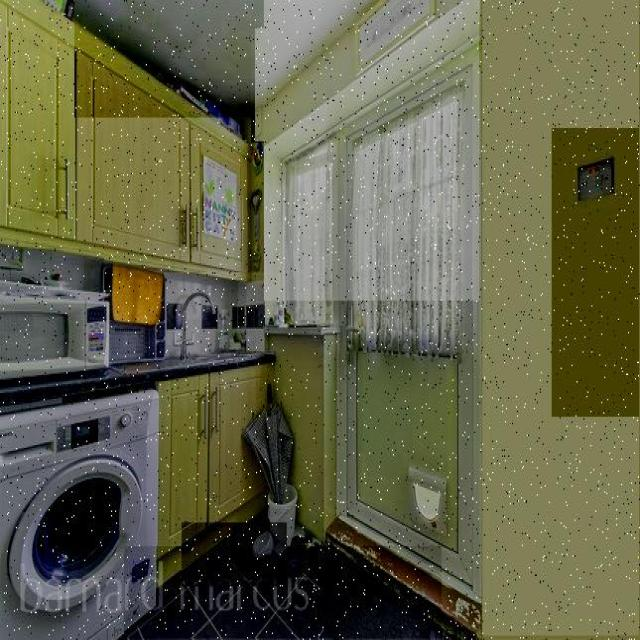Wall: (483, 0, 640, 636), (265, 0, 479, 301), (75, 1, 375, 118), (125, 547, 442, 639), (552, 129, 639, 417), (251, 28, 356, 143), (255, 29, 356, 141), (164, 274, 264, 356), (182, 524, 287, 586), (0, 249, 104, 289), (436, 0, 461, 16)
